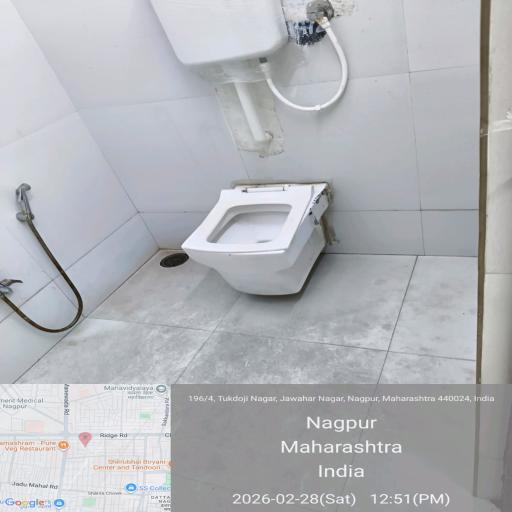clean_floor: (62, 296, 474, 507), (13, 9, 477, 180)
clean_western: (128, 127, 363, 312)
